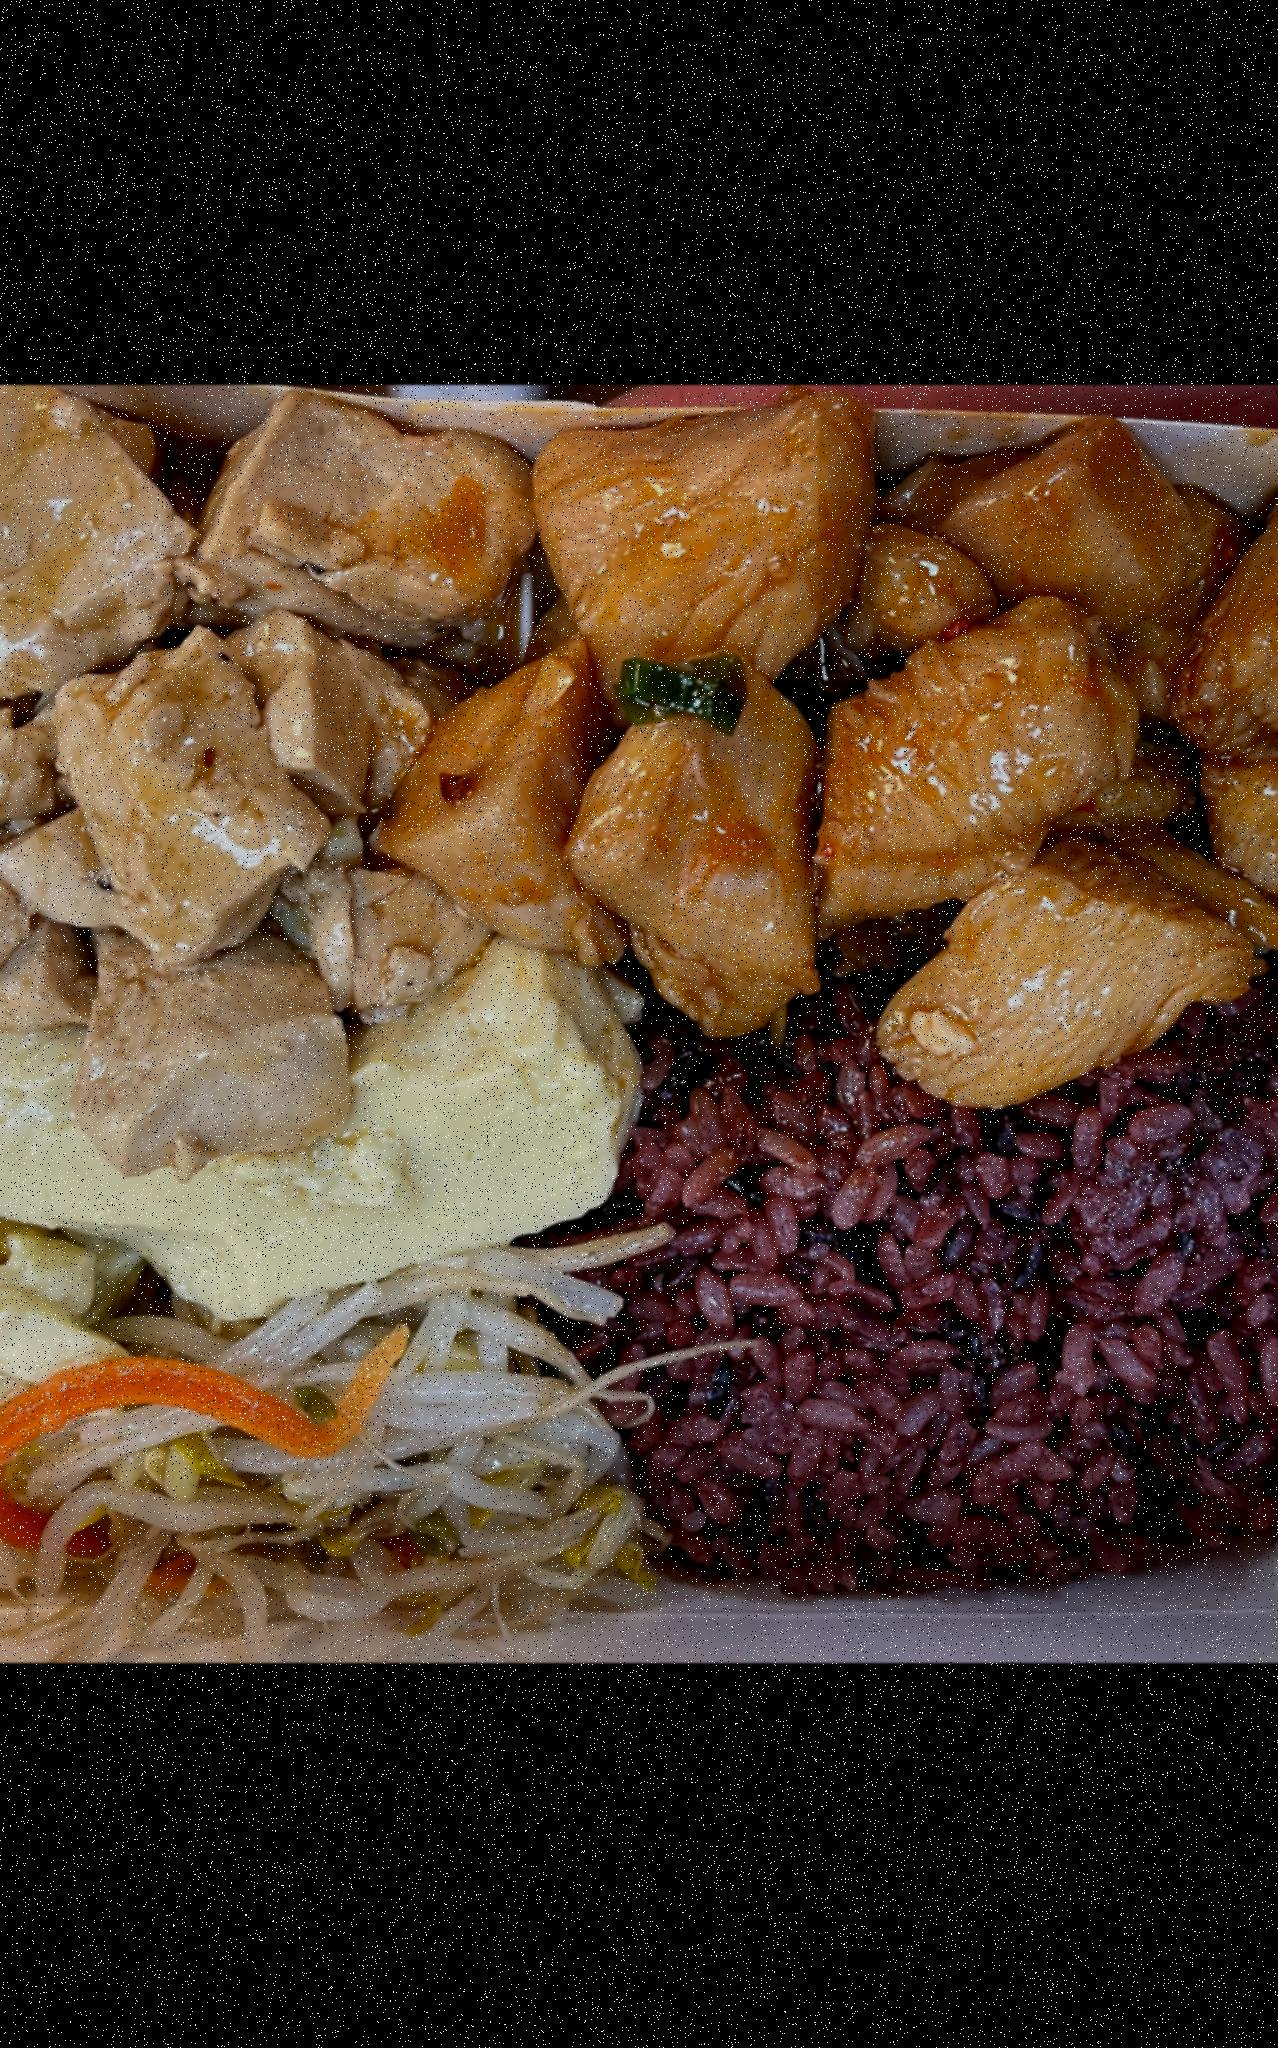box: (0, 420, 1278, 1659)
purple rice: (629, 978, 1278, 1592)
side dish: (0, 437, 483, 1140), (0, 1240, 624, 1645), (0, 961, 626, 1363)
spicy chicken: (442, 456, 1278, 1039)
